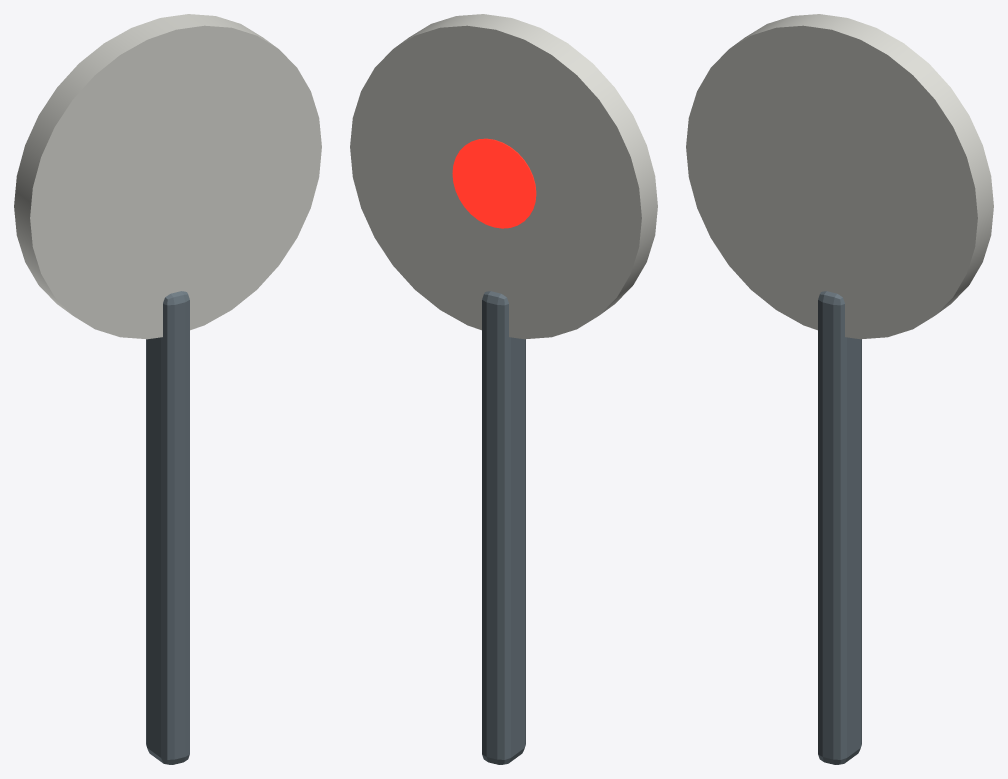
Rendered from Target.fbx.
3 renders of one model, left to right at view 1: azimuth 30°, elevation 25°; view 2: azimuth 150°, elevation 25°; view 3: azimuth 330°, elevation 25°, orthographic.
Parts seen in each view (by area): view 1: Body.049; view 2: Body.049; view 3: Body.049.
Boxes of the visible parts, x1,y1,x2,y2 form: Body.049: (14,14,321,764); Body.049: (350,14,657,764); Body.049: (686,14,993,764).
Size of the model in its own units: 0.84 by 2.02 by 0.12.
